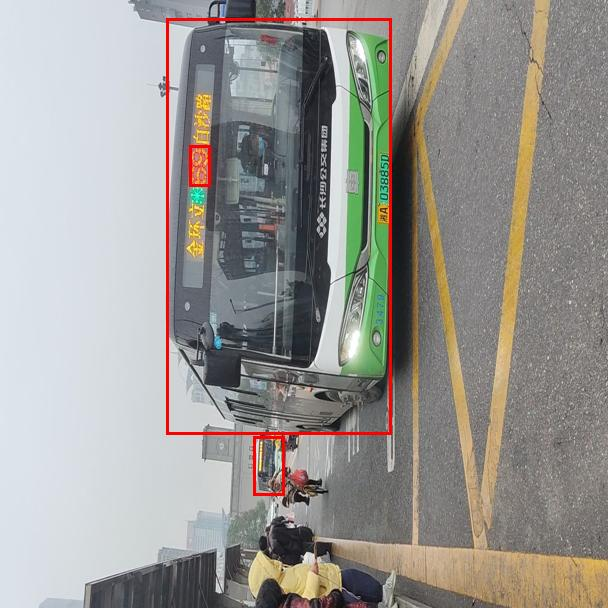bus: (166, 18, 391, 434), (253, 436, 284, 495)
screen: (189, 145, 210, 186)
